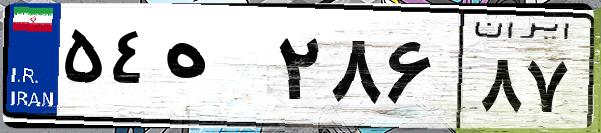2: (270, 28, 330, 110)
4: (110, 28, 158, 98)
5: (57, 26, 110, 100)
6: (385, 28, 445, 110)
7: (525, 38, 570, 115)
8: (330, 28, 385, 110), (475, 38, 525, 113)
ه: (158, 20, 270, 120)
